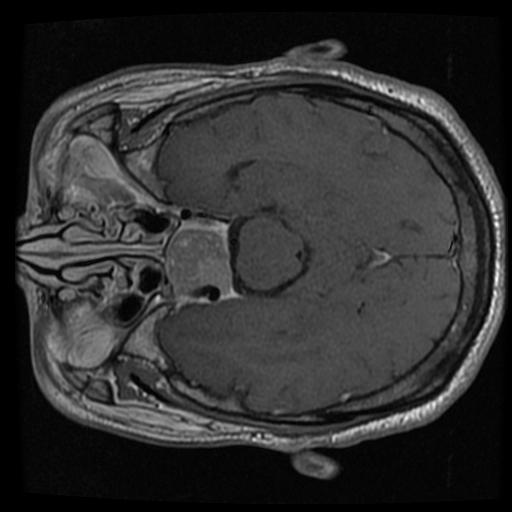pituitary tumour: (167, 221, 232, 292)
